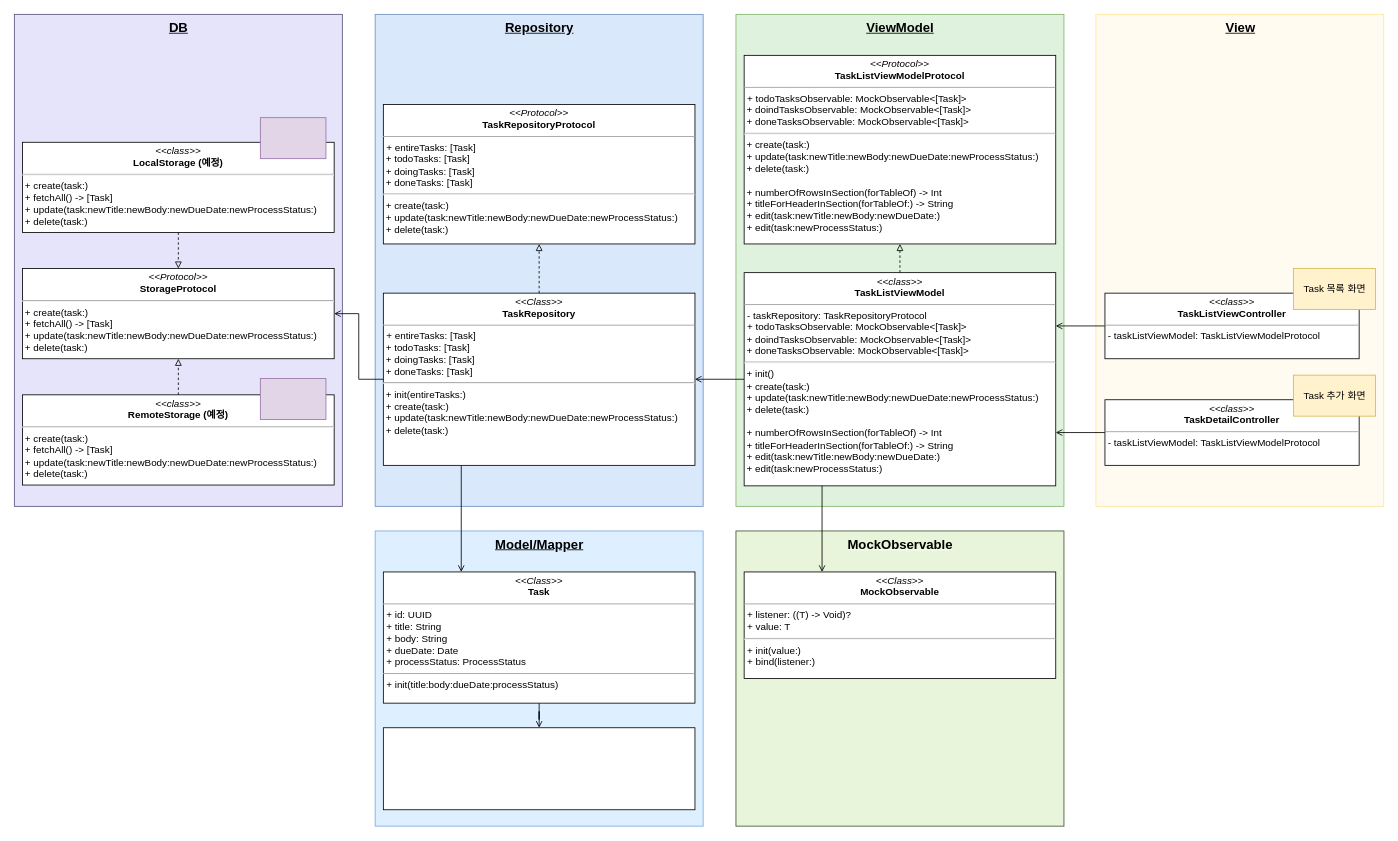
Image size: 1398x841. Some labels were removed from this diagram. Each missing label, with the centre of its shape:
<<Enum>> ProcessStatus + case todo + case doing + case done: [539,768]
Local DB (Realm): [293,138]
Remote DB (Firestore): [293,398]
